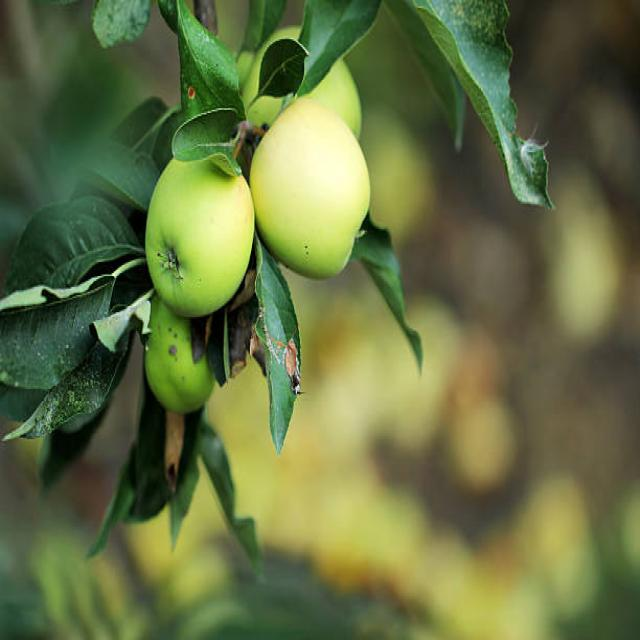Unripe: (252, 95, 370, 278), (143, 138, 254, 317)
